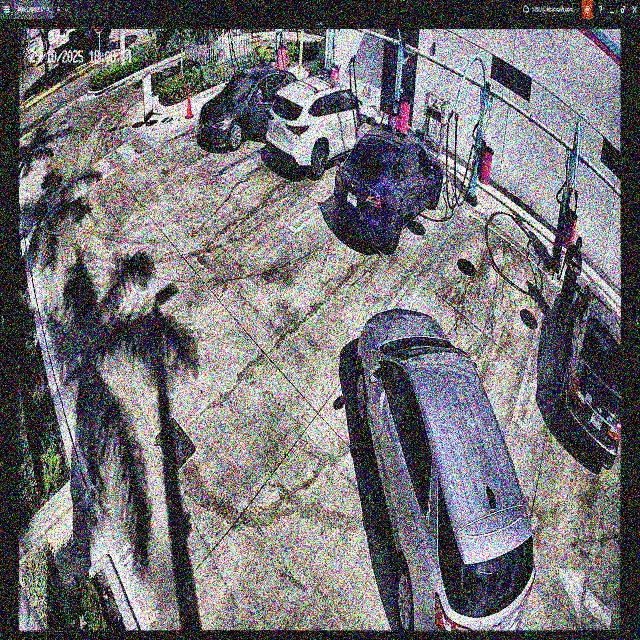Car: (356, 292, 528, 632), (331, 129, 442, 251), (267, 81, 378, 165), (194, 70, 298, 154)
